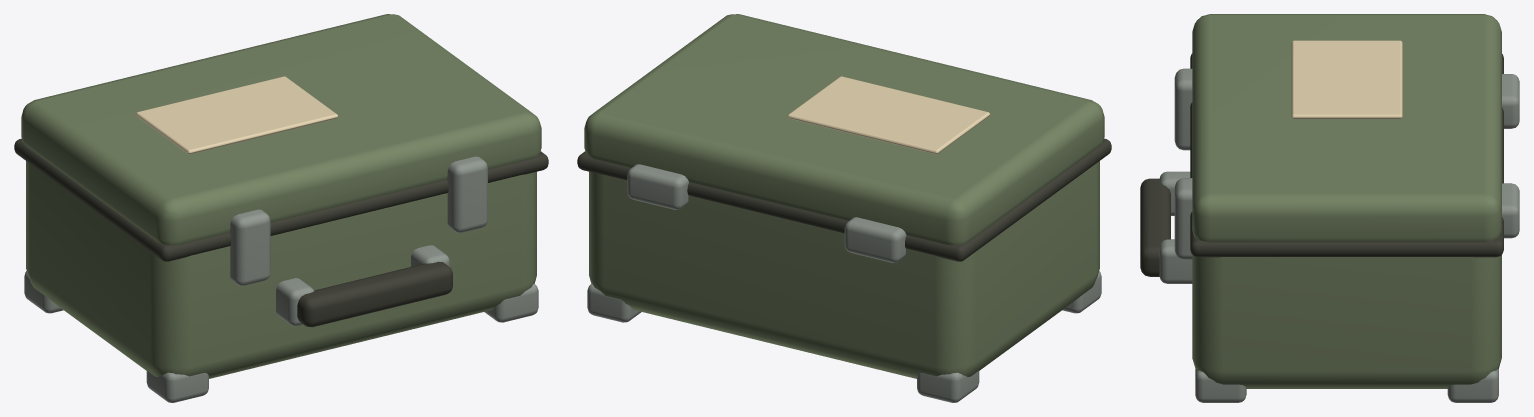
Rendered from archive-tape-case.glb.
3 renders of one model, left to right at view 1: azimuth 30°, elevation 25°; view 2: azimuth 150°, elevation 25°; view 3: azimuth 270°, elevation 25°, orthographic. The views are drawn at different scales.
Visible parts, largest first — view 1: Olive archive case, Handle and seal, Steel corner guards, Accession label; view 2: Olive archive case, Accession label, Steel corner guards, Handle and seal; view 3: Olive archive case, Accession label, Steel corner guards, Handle and seal.
Boxes of the visible parts, left/top/right/bottom form: Olive archive case: left=21, top=14, right=541, bottom=378; Handle and seal: left=14, top=138, right=548, bottom=327; Steel corner guards: left=24, top=156, right=538, bottom=402; Accession label: left=136, top=76, right=338, bottom=154; Olive archive case: left=584, top=14, right=1104, bottom=378; Accession label: left=787, top=76, right=989, bottom=154; Steel corner guards: left=587, top=164, right=1101, bottom=402; Handle and seal: left=577, top=138, right=1111, bottom=261; Olive archive case: left=1192, top=14, right=1501, bottom=388; Accession label: left=1291, top=40, right=1402, bottom=118; Steel corner guards: left=1159, top=68, right=1519, bottom=402; Handle and seal: left=1140, top=53, right=1503, bottom=276.
Bounding box in the file's own units: 0.567 × 0.287 × 0.466.
